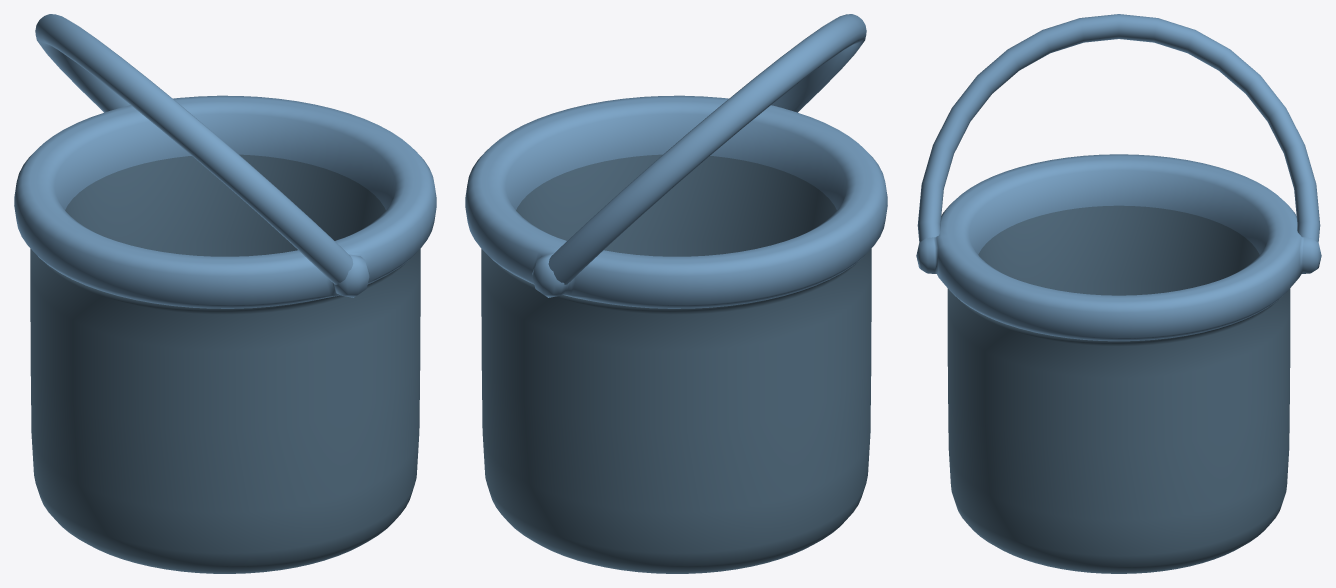
The model's file is Container_Bucket.glb.
3 renders of one model, left to right at view 1: azimuth 30°, elevation 25°; view 2: azimuth 150°, elevation 25°; view 3: azimuth 270°, elevation 25°, orthographic. The views are drawn at different scales.
Parts seen in each view (by area): view 1: Container_Bucket, Container_Bucket_Handle; view 2: Container_Bucket, Container_Bucket_Handle; view 3: Container_Bucket, Container_Bucket_Handle.
Part boxes in pixels (bbox=[...]): Container_Bucket: bbox=[14, 95, 436, 573]; Container_Bucket_Handle: bbox=[35, 14, 353, 284]; Container_Bucket: bbox=[465, 95, 887, 573]; Container_Bucket_Handle: bbox=[548, 14, 866, 284]; Container_Bucket: bbox=[916, 154, 1321, 573]; Container_Bucket_Handle: bbox=[917, 14, 1320, 241].
Size of the model in its own units: 0.7808 by 1.03 by 0.8529.
1 material, 1 textured.
